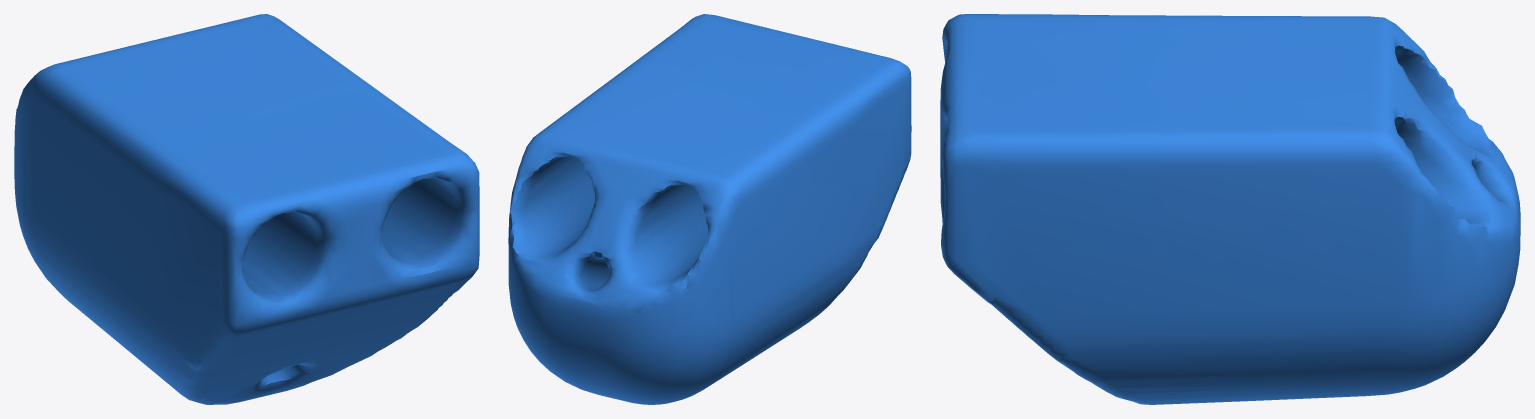
File: right_finger2_upper.obj
3 views of the same model, side by side, from view 1: azimuth 30°, elevation 25°; view 2: azimuth 150°, elevation 25°; view 3: azimuth 270°, elevation 25° (orthographic). The views are drawn at different scales.
Visible parts, largest first — view 1: right_finger2_upper; view 2: right_finger2_upper; view 3: right_finger2_upper.
Boxes of the visible parts, bbox=[...] form: right_finger2_upper: bbox=[14, 14, 479, 404]; right_finger2_upper: bbox=[508, 14, 911, 404]; right_finger2_upper: bbox=[940, 14, 1520, 404].
Size of the model in its own units: 0.0113 by 0.0121 by 0.0205.
1 material, 1 textured.
